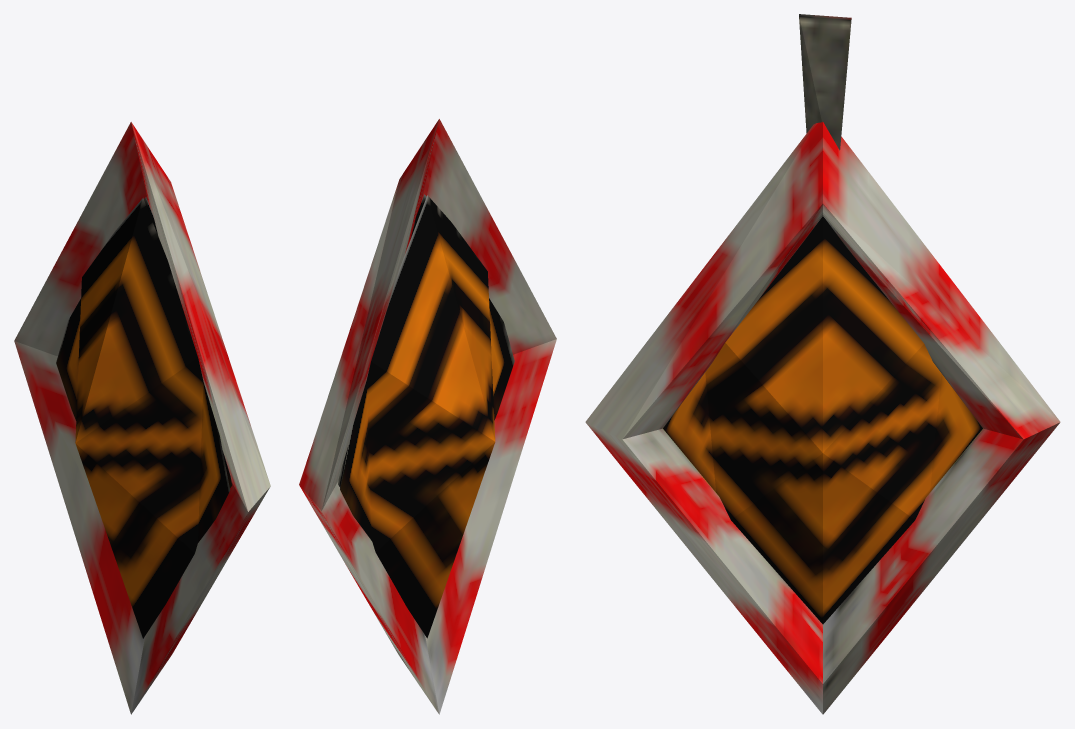
File: Schild_Raute_1458.glb
3 renders of one model, left to right at view 1: azimuth 30°, elevation 25°; view 2: azimuth 150°, elevation 25°; view 3: azimuth 270°, elevation 25°, orthographic.
Parts seen in each view (by area): view 1: pPlaneShape59, pTorusShape42; view 2: pPlaneShape59, pTorusShape42; view 3: pTorusShape42, pPlaneShape57, pCylinderShape50.
Boxes of the visible parts, <box> form: pPlaneShape59: <box>56,198,230,638</box>; pTorusShape42: <box>14,122,270,714</box>; pPlaneShape59: <box>340,195,514,638</box>; pTorusShape42: <box>299,119,556,714</box>; pTorusShape42: <box>585,122,1060,714</box>; pPlaneShape57: <box>663,216,982,624</box>; pCylinderShape50: <box>799,14,851,150</box>.
Bounding box in the file's own units: 0.0506 × 0.2972 × 0.183.
Materials: 4 (4 with a texture image).
